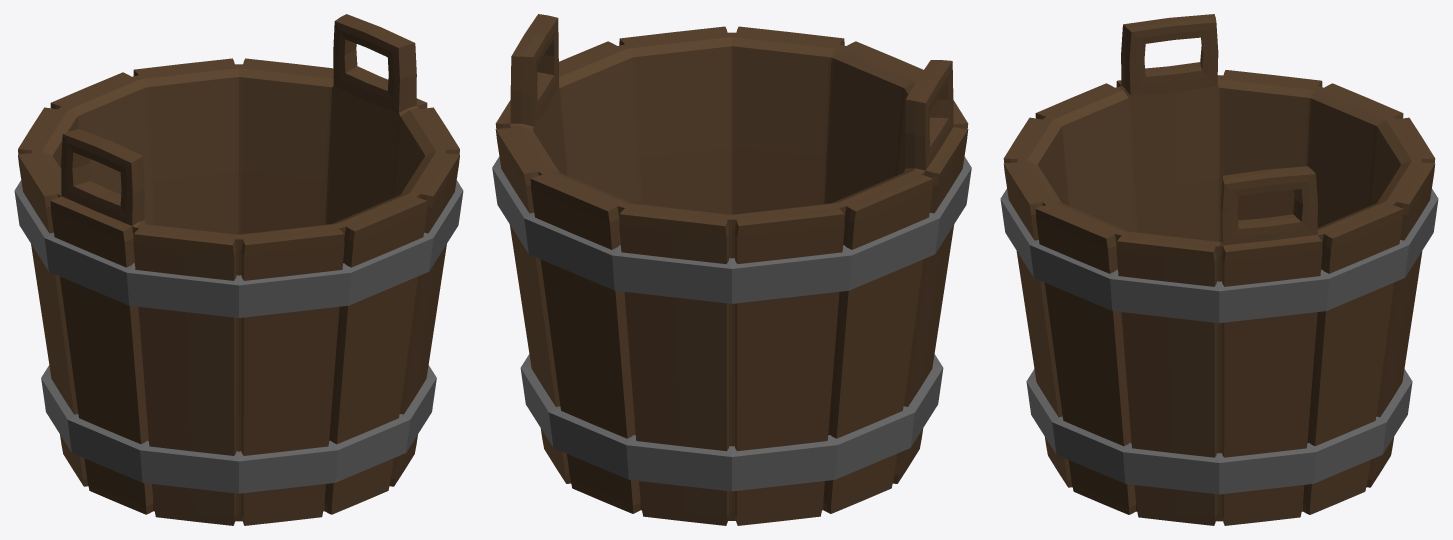
The model's file is bucket.fbx.
3 renders of one model, left to right at view 1: azimuth 30°, elevation 25°; view 2: azimuth 150°, elevation 25°; view 3: azimuth 270°, elevation 25°, orthographic. The views are drawn at different scales.
Visible parts, largest first — view 1: Cylinder, Cylinder.001; view 2: Cylinder, Cylinder.001; view 3: Cylinder, Cylinder.001.
Part boxes in pixels (x1,y1,x2,y2): Cylinder: (18, 14, 459, 525); Cylinder.001: (14, 180, 463, 493); Cylinder: (495, 14, 968, 525); Cylinder.001: (492, 156, 971, 491); Cylinder: (1003, 14, 1435, 525); Cylinder.001: (1000, 189, 1438, 494).
Size of the model in its own units: 271 by 243 by 271.
